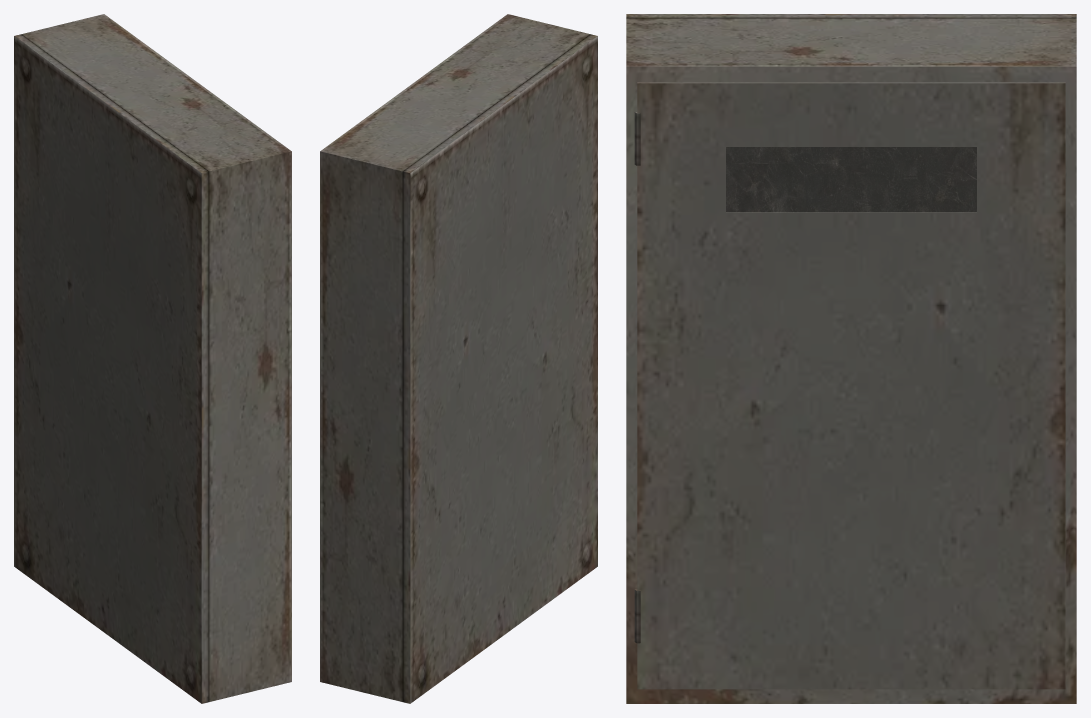
Rendered from breaker_box.glb.
The picture shows the model from 3 angles, left to right: view 1: azimuth 30°, elevation 25°; view 2: azimuth 150°, elevation 25°; view 3: azimuth 270°, elevation 25°; orthographic projection. The views are drawn at different scales.
Visible parts, largest first — view 1: BoxWithGlassFrame; view 2: BoxWithGlassFrame; view 3: Cylinder.040, BoxWithGlassFrame.
Boxes of the visible parts, left/top/right/bottom form: BoxWithGlassFrame: left=14, top=14, right=291, bottom=703; BoxWithGlassFrame: left=320, top=14, right=597, bottom=703; Cylinder.040: left=634, top=82, right=1065, bottom=689; BoxWithGlassFrame: left=626, top=14, right=1076, bottom=703.
Size of the model in its own units: 0.1576 by 0.8652 by 0.5546.
2 materials, 2 textured.
